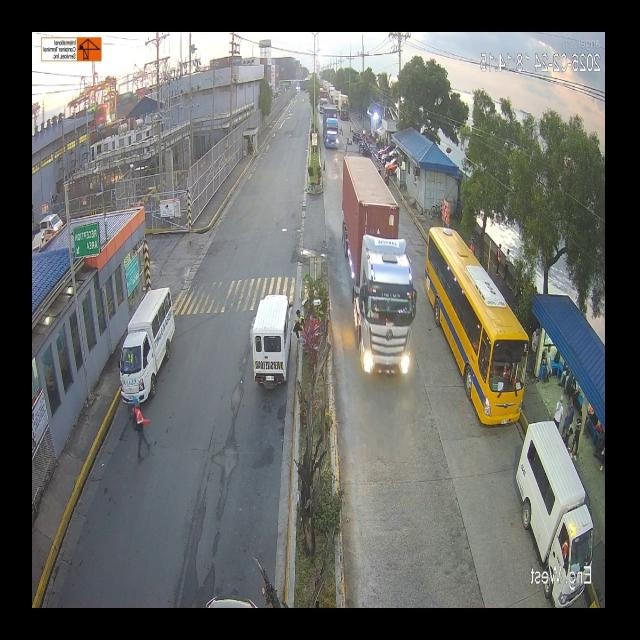car: (108, 219, 532, 442), (516, 432, 596, 558), (114, 298, 178, 399), (247, 287, 292, 400)
truck: (220, 148, 352, 396), (299, 107, 320, 156), (338, 92, 349, 122)
